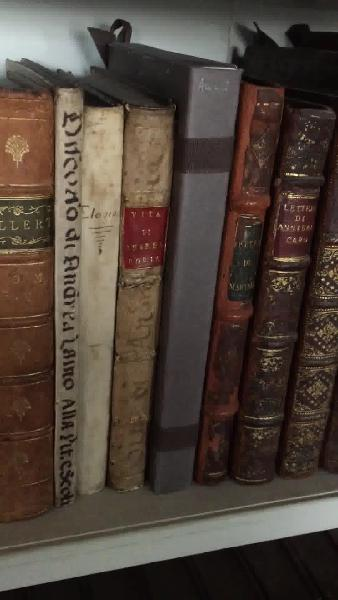Aa6-24: (46, 81, 83, 512)
Aa6-25: (81, 99, 119, 505)
Aa6-26: (104, 83, 168, 502)
Aa6-27: (151, 53, 234, 489)
Aa6-28: (201, 74, 284, 487)
Aa6-29: (234, 85, 325, 484)
